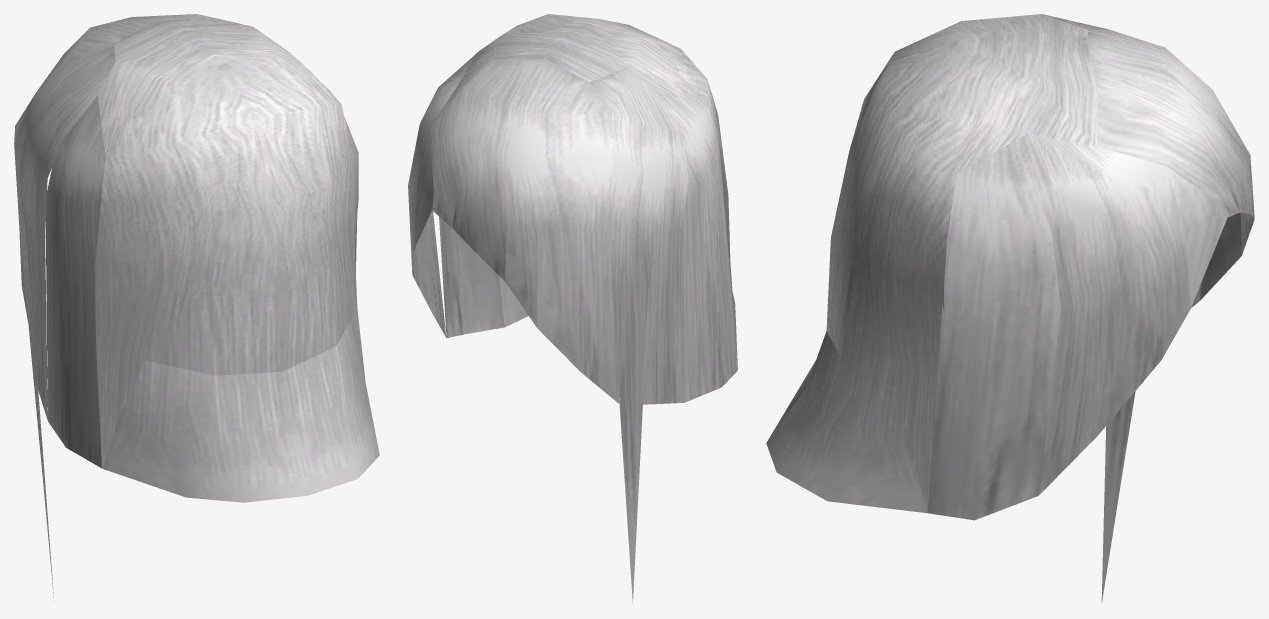
File: Martial arts male hair 41.glb
3 renders of one model, left to right at view 1: azimuth 30°, elevation 25°; view 2: azimuth 150°, elevation 25°; view 3: azimuth 270°, elevation 25°, orthographic. The views are drawn at different scales.
Parts seen in each view (by area): view 1: 武侠男头发41_0; view 2: 武侠男头发41_0; view 3: 武侠男头发41_0.
Part boxes in pixels (x1,y1,x2,y2): 武侠男头发41_0: (14, 14, 379, 601); 武侠男头发41_0: (408, 14, 737, 603); 武侠男头发41_0: (766, 14, 1254, 603).
Size of the model in its own units: 0.1853 by 0.3528 by 0.2495.
Materials: 1 (1 with a texture image).
